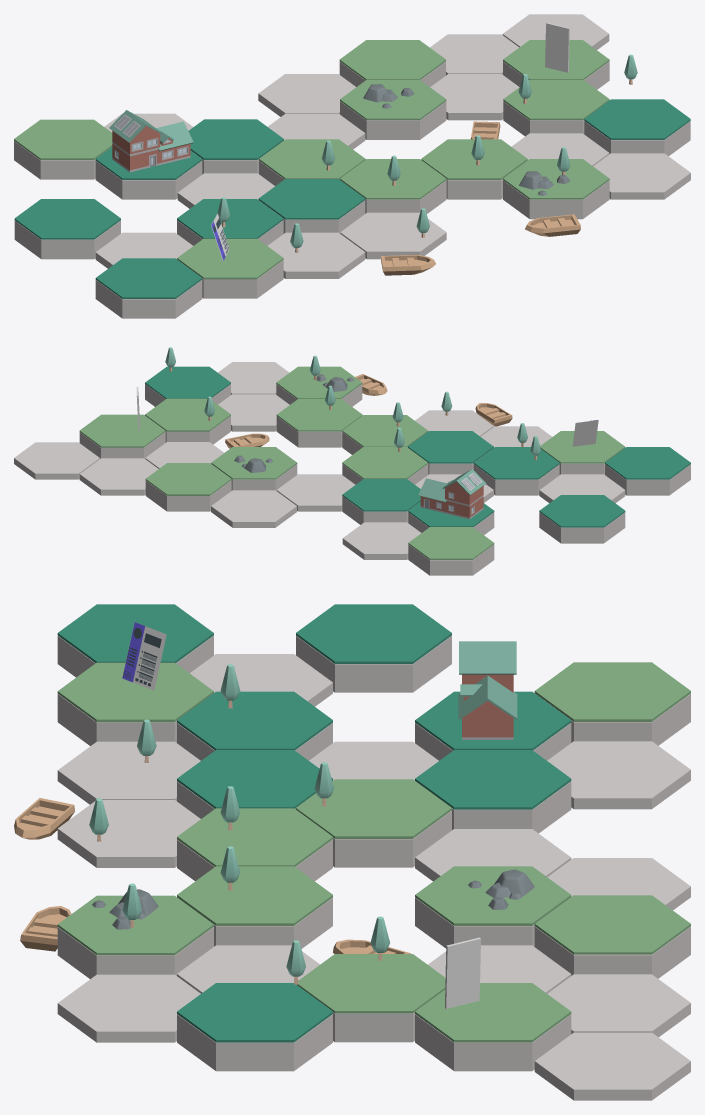
File: heroo.glb
3 renders of one model, top to bottom at view 1: azimuth 30°, elevation 25°; view 2: azimuth 150°, elevation 25°; view 3: azimuth 270°, elevation 25°, orthographic. The views are drawn at different scales.
Visible parts, largest first — view 1: Cylinder.021, house_type03, Cylinder.020, Cylinder.017, Cylinder.037, Cylinder.039, Cylinder.045, Cylinder.040, Cylinder.007, Cylinder.043, Cylinder.042, Cylinder.009 (+40 smaller); view 2: Cylinder.012, Cylinder.027, house_type03, Cylinder.028, Cylinder.001, Cylinder.003, Cylinder.011, Cylinder.043, Cylinder.007, Cylinder.045, Cylinder.040, Cylinder.039 (+38 smaller); view 3: Cylinder.027, Cylinder.001, Cylinder.021, Cylinder.043, Cylinder.007, Cylinder.045, Cylinder.037, Cylinder.046, Cylinder.009, Cylinder.020, Cylinder.047, Cylinder.041 (+40 smaller).
Part boxes in pixels (box(x1,y1,x2,y2)): Cylinder.021: box(593, 153, 690, 199); house_type03: box(109, 110, 193, 172); Cylinder.020: box(340, 212, 446, 259); Cylinder.017: box(267, 232, 365, 278); Cylinder.037: box(584, 99, 690, 139); Cylinder.039: box(258, 179, 365, 219); Cylinder.045: box(14, 199, 120, 239); Cylinder.040: box(95, 258, 202, 298); Cylinder.007: box(339, 40, 445, 80); Cylinder.043: box(14, 119, 112, 159); Cylinder.042: box(177, 238, 283, 279); Cylinder.009: box(503, 79, 609, 120); Cylinder.012: box(211, 490, 296, 527); Cylinder.027: box(14, 442, 99, 479); house_type03: box(418, 469, 486, 519); Cylinder.028: box(79, 458, 158, 495); Cylinder.001: box(342, 522, 421, 559); Cylinder.003: box(276, 474, 355, 511); Cylinder.011: box(79, 414, 165, 447); Cylinder.043: box(408, 527, 494, 559); Cylinder.007: box(145, 463, 231, 495); Cylinder.045: box(539, 495, 625, 527); Cylinder.040: box(605, 447, 690, 479); Cylinder.039: box(408, 431, 493, 463); Cylinder.027: box(534, 1032, 690, 1100); Cylinder.001: box(547, 741, 690, 809); Cylinder.021: box(57, 974, 200, 1042); Cylinder.043: box(534, 662, 690, 721); Cylinder.007: box(534, 895, 690, 954); Cylinder.045: box(296, 604, 451, 663); Cylinder.037: box(177, 983, 332, 1042); Cylinder.046: box(415, 750, 571, 809); Cylinder.009: box(297, 954, 445, 1013); Cylinder.020: box(57, 800, 200, 867); Cylinder.047: box(296, 779, 451, 838); Cylinder.041: box(177, 691, 332, 750).
Bounding box in the file's own units: 4.93 × 0.5473 × 3.03.
